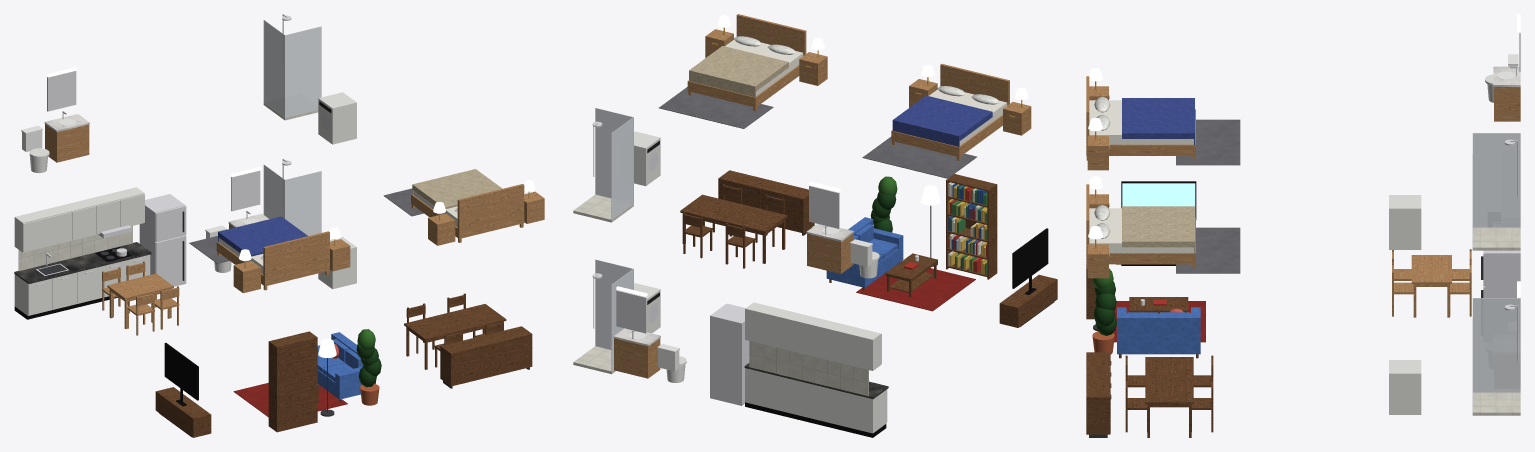
Rendered from i_scottish_stone_house.gltf.
The picture shows the model from 3 angles, left to right: view 1: azimuth 30°, elevation 25°; view 2: azimuth 150°, elevation 25°; view 3: azimuth 270°, elevation 25°; orthographic projection. The views are drawn at different scales.
Parts seen in each view (by area): view 1: I_scottish_stone_house; view 2: I_scottish_stone_house; view 3: I_scottish_stone_house.
Boxes of the visible parts, x1,y1,x2,y2 form: I_scottish_stone_house: [14, 14, 544, 437]; I_scottish_stone_house: [573, 14, 1057, 437]; I_scottish_stone_house: [1086, 14, 1520, 437].
Size of the model in its own units: 8.38 by 5.45 by 8.12.
Materials: 33 (13 with a texture image).
